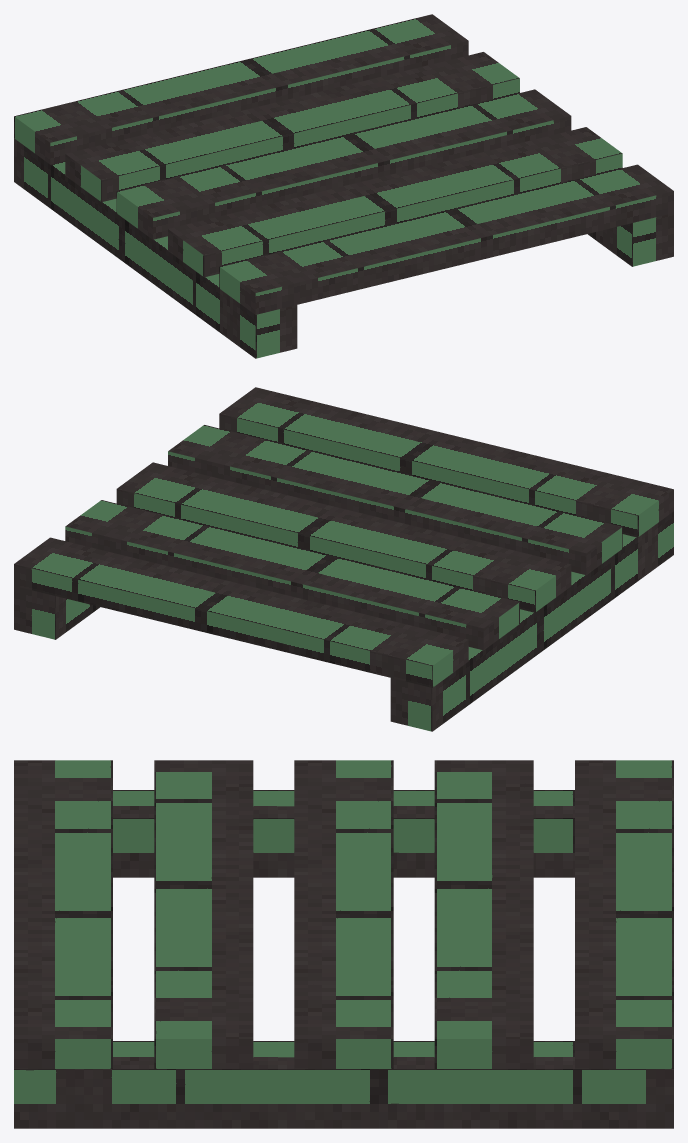
File: pallet.glb
The picture shows the model from 3 angles, top to bottom: view 1: azimuth 30°, elevation 25°; view 2: azimuth 150°, elevation 25°; view 3: azimuth 270°, elevation 25°; orthographic projection. The views are drawn at different scales.
Parts seen in each view (by area): view 1: pallet; view 2: pallet; view 3: pallet.
Boxes of the visible parts, bbox=[...] form: pallet: bbox=[14, 14, 673, 358]; pallet: bbox=[14, 387, 673, 731]; pallet: bbox=[14, 760, 673, 1128].
Bounding box in the file's own units: 1 × 0.15 × 1.
Materials: 1 (1 with a texture image).
